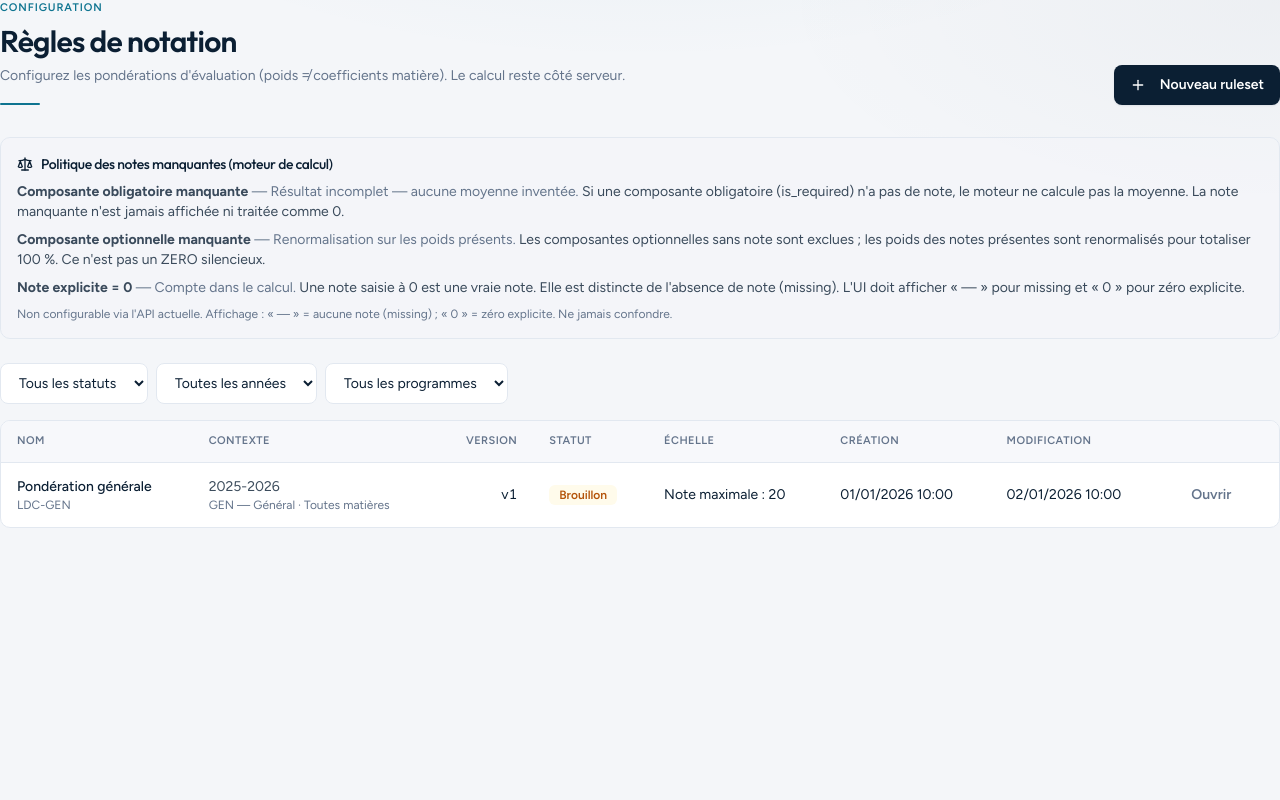
Test: GradingRulesets list › crée un Ruleset 60/40 correctement envoyé à l’API
Later steps or results of the test are not shown.
Expected: the link "Pondération générale" is shown, [17,478,152,495]
Click the button "Nouveau ruleset" at (1197, 85), box [1114,65,1279,105]
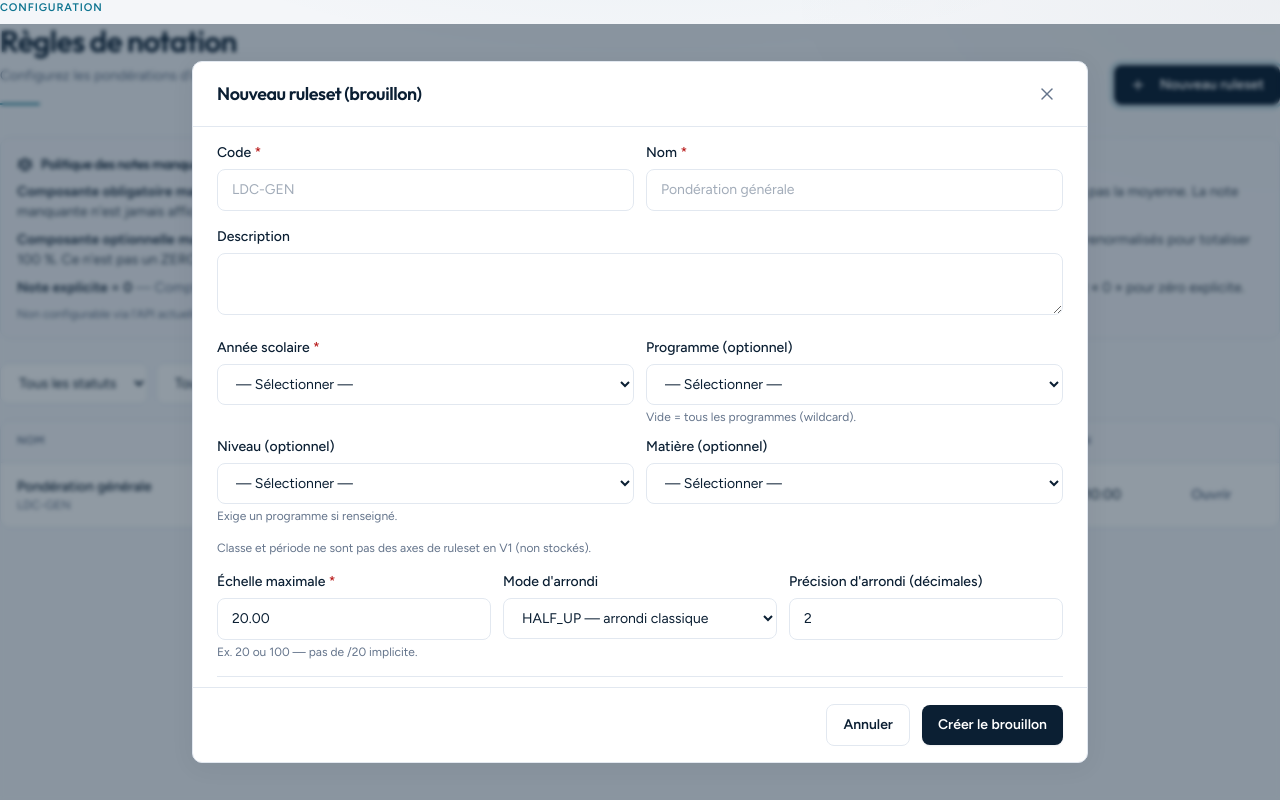
Now the heading "Nouveau ruleset (brouillon)" is shown, box [217,80,422,108]
